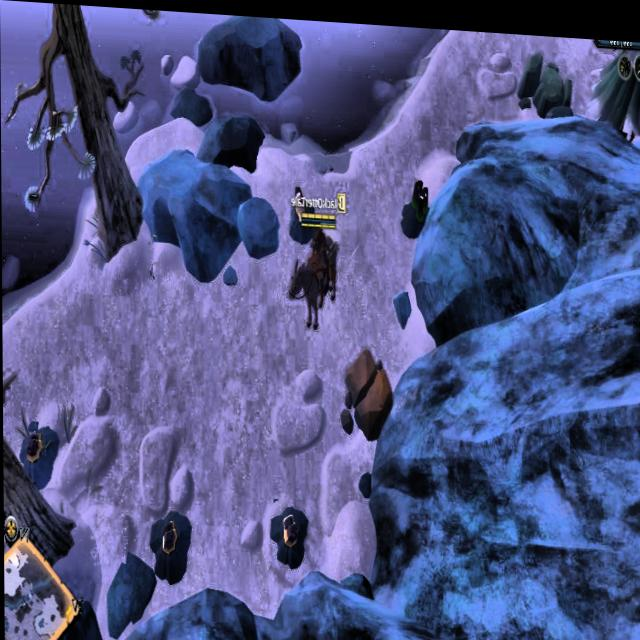copperore: (150, 507, 191, 579), (20, 422, 57, 487), (273, 500, 307, 564), (286, 183, 319, 240)
limestone: (338, 339, 394, 438)
sandstone: (515, 41, 574, 118)
tinore: (398, 168, 434, 230)
